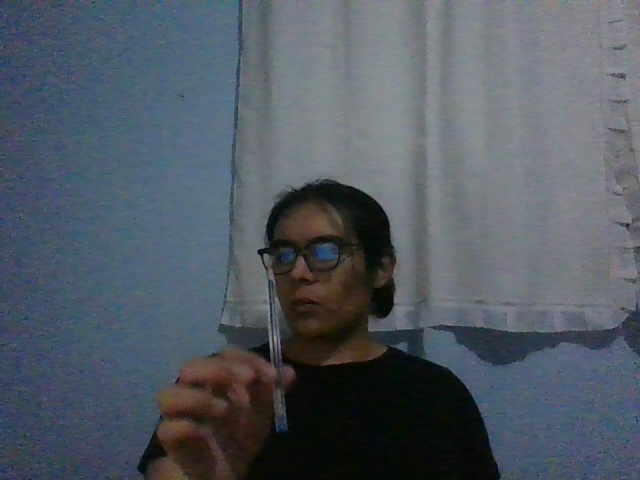pluma: (265, 258, 289, 433)
